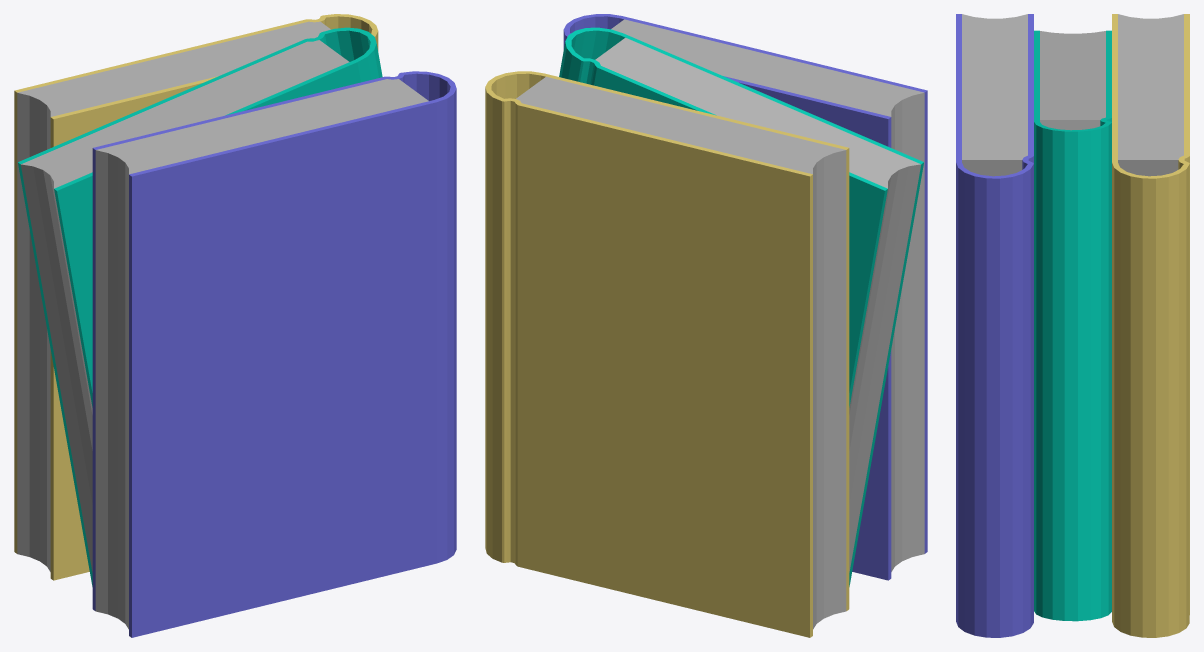
Rendered from 3books.dae.
3 views of the same model, side by side, from view 1: azimuth 30°, elevation 25°; view 2: azimuth 150°, elevation 25°; view 3: azimuth 270°, elevation 25° (orthographic).
Parts seen in each view (by area): view 1: ShapeIndexedFaceSet_019, ShapeIndexedFaceSet_013, ShapeIndexedFaceSet_006, ShapeIndexedFaceSet_030, ShapeIndexedFaceSet_009, ShapeIndexedFaceSet_034, ShapeIndexedFaceSet_018, ShapeIndexedFaceSet_002, ShapeIndexedFaceSet_040, ShapeIndexedFaceSet_054, ShapeIndexedFaceSet_023, ShapeIndexedFaceSet_058 (+9 smaller); view 2: ShapeIndexedFaceSet_035, ShapeIndexedFaceSet_006, ShapeIndexedFaceSet_013, ShapeIndexedFaceSet_030, ShapeIndexedFaceSet_002, ShapeIndexedFaceSet_034, ShapeIndexedFaceSet_009, ShapeIndexedFaceSet_039, ShapeIndexedFaceSet_014, ShapeIndexedFaceSet_049, ShapeIndexedFaceSet_037, ShapeIndexedFaceSet_044 (+12 smaller); view 3: ShapeIndexedFaceSet_053, ShapeIndexedFaceSet_039, ShapeIndexedFaceSet_018, ShapeIndexedFaceSet_002, ShapeIndexedFaceSet_009, ShapeIndexedFaceSet_030, ShapeIndexedFaceSet_044, ShapeIndexedFaceSet_023, ShapeIndexedFaceSet_058, ShapeIndexedFaceSet, ShapeIndexedFaceSet_007, ShapeIndexedFaceSet_028 (+1 smaller).
Boxes of the visible parts, bbox=[...] form: ShapeIndexedFaceSet_019: bbox=[132, 102, 436, 637]; ShapeIndexedFaceSet_013: bbox=[95, 150, 128, 629]; ShapeIndexedFaceSet_006: bbox=[17, 93, 50, 571]; ShapeIndexedFaceSet_030: bbox=[21, 40, 349, 188]; ShapeIndexedFaceSet_009: bbox=[96, 79, 428, 174]; ShapeIndexedFaceSet_034: bbox=[20, 164, 92, 572]; ShapeIndexedFaceSet_018: bbox=[437, 89, 456, 563]; ShapeIndexedFaceSet_002: bbox=[18, 21, 330, 116]; ShapeIndexedFaceSet_040: bbox=[53, 83, 202, 580]; ShapeIndexedFaceSet_054: bbox=[57, 62, 360, 392]; ShapeIndexedFaceSet_023: bbox=[93, 71, 456, 176]; ShapeIndexedFaceSet_058: bbox=[18, 27, 376, 190]; ShapeIndexedFaceSet_035: bbox=[517, 105, 809, 637]; ShapeIndexedFaceSet_006: bbox=[813, 150, 846, 629]; ShapeIndexedFaceSet_013: bbox=[891, 92, 924, 571]; ShapeIndexedFaceSet_030: bbox=[595, 37, 920, 188]; ShapeIndexedFaceSet_002: bbox=[516, 76, 845, 174]; ShapeIndexedFaceSet_034: bbox=[849, 164, 921, 572]; ShapeIndexedFaceSet_009: bbox=[611, 19, 923, 116]; ShapeIndexedFaceSet_039: bbox=[485, 87, 501, 562]; ShapeIndexedFaceSet_014: bbox=[739, 82, 888, 580]; ShapeIndexedFaceSet_049: bbox=[594, 67, 884, 392]; ShapeIndexedFaceSet_037: bbox=[506, 101, 515, 564]; ShapeIndexedFaceSet_044: bbox=[485, 71, 848, 176]; ShapeIndexedFaceSet_053: bbox=[1034, 122, 1111, 621]; ShapeIndexedFaceSet_039: bbox=[1112, 163, 1189, 637]; ShapeIndexedFaceSet_018: bbox=[956, 163, 1033, 637]; ShapeIndexedFaceSet_002: bbox=[1118, 14, 1183, 159]; ShapeIndexedFaceSet_009: bbox=[962, 14, 1027, 159]; ShapeIndexedFaceSet_030: bbox=[1040, 31, 1105, 119]; ShapeIndexedFaceSet_044: bbox=[1112, 14, 1189, 178]; ShapeIndexedFaceSet_023: bbox=[956, 14, 1033, 178]; ShapeIndexedFaceSet_058: bbox=[1034, 30, 1111, 131]; ShapeIndexedFaceSet: bbox=[1118, 160, 1178, 176]; ShapeIndexedFaceSet_007: bbox=[962, 160, 1022, 176]; ShapeIndexedFaceSet_028: bbox=[1040, 120, 1100, 130].
Bounding box in the file's own units: 0.242 × 0.12 × 0.2908.
